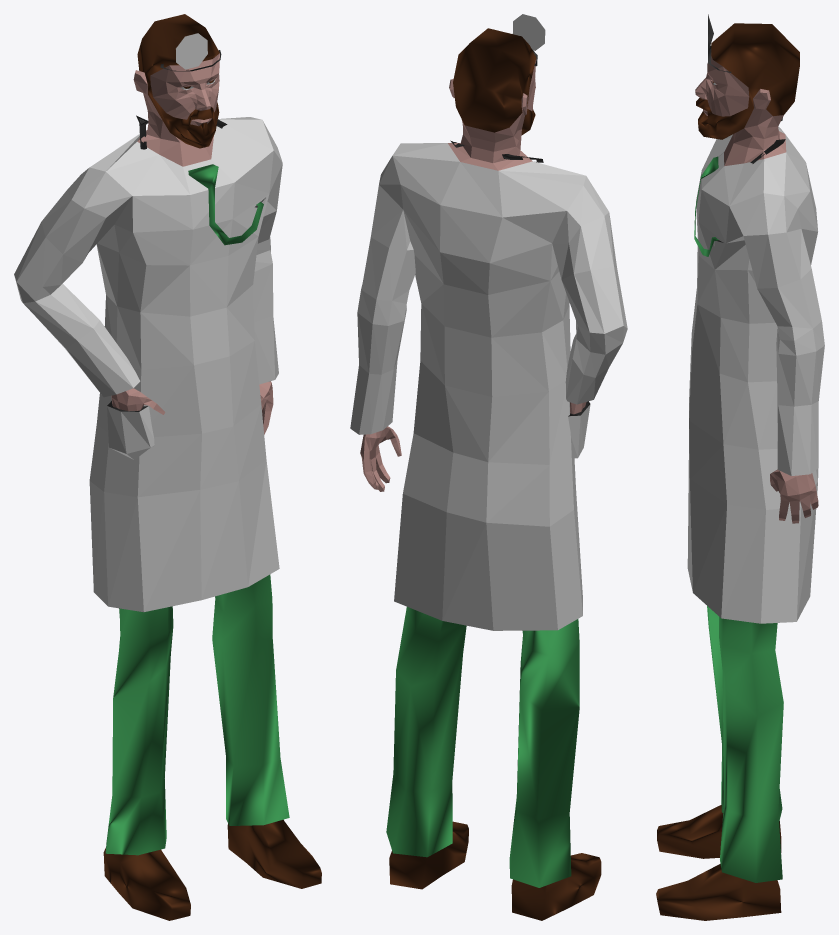
Rendered from doctor.dae.
The picture shows the model from 3 angles, left to right: view 1: azimuth 30°, elevation 25°; view 2: azimuth 150°, elevation 25°; view 3: azimuth 270°, elevation 25°; orthographic projection. The views are drawn at different scales.
Parts seen in each view (by area): view 1: A7_01_698_0_Pts_Material__1__Surf, A7_01_698_0_Pts_Material__3__Surf, A7_01_698_0_Pts_Material__4__Surf, A7_01_698_0_Pts_Material__5__Surf; view 2: A7_01_698_0_Pts_Material__1__Surf, A7_01_698_0_Pts_Material__3__Surf, A7_01_698_0_Pts_Material__4__Surf, A7_01_698_0_Pts_Material__5__Surf; view 3: A7_01_698_0_Pts_Material__1__Surf, A7_01_698_0_Pts_Material__3__Surf, A7_01_698_0_Pts_Material__4__Surf, A7_01_698_0_Pts_Material__5__Surf, A7_01_698_0_Pts_Material__2__Surf.
Boxes of the visible parts, x1=… form: A7_01_698_0_Pts_Material__1__Surf: x1=14, y1=33, x2=282, y2=612; A7_01_698_0_Pts_Material__3__Surf: x1=105, y1=164, x2=289, y2=855; A7_01_698_0_Pts_Material__4__Surf: x1=103, y1=14, x2=321, y2=920; A7_01_698_0_Pts_Material__5__Surf: x1=111, y1=53, x2=273, y2=434; A7_01_698_0_Pts_Material__1__Surf: x1=350, y1=14, x2=627, y2=630; A7_01_698_0_Pts_Material__3__Surf: x1=386, y1=607, x2=579, y2=887; A7_01_698_0_Pts_Material__4__Surf: x1=389, y1=28, x2=601, y2=920; A7_01_698_0_Pts_Material__5__Surf: x1=360, y1=59, x2=586, y2=491; A7_01_698_0_Pts_Material__1__Surf: x1=687, y1=82, x2=824, y2=623; A7_01_698_0_Pts_Material__3__Surf: x1=694, y1=156, x2=783, y2=882; A7_01_698_0_Pts_Material__4__Surf: x1=656, y1=23, x2=799, y2=920; A7_01_698_0_Pts_Material__5__Surf: x1=695, y1=53, x2=818, y2=523; A7_01_698_0_Pts_Material__2__Surf: x1=708, y1=14, x2=785, y2=242.
Bounding box in the file's own units: 6.27 × 19.45 × 3.51.
